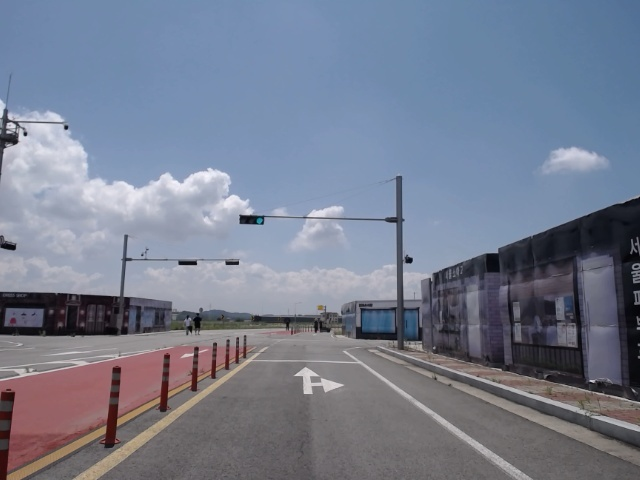green_3: (240, 215, 264, 225)
